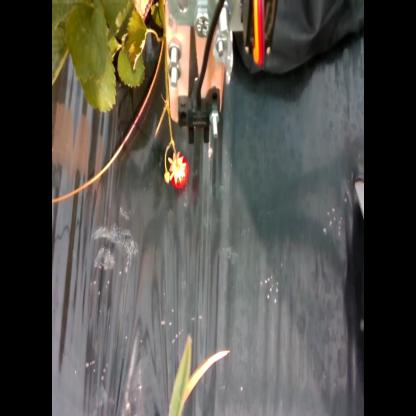ripe: (168, 151, 193, 191)
